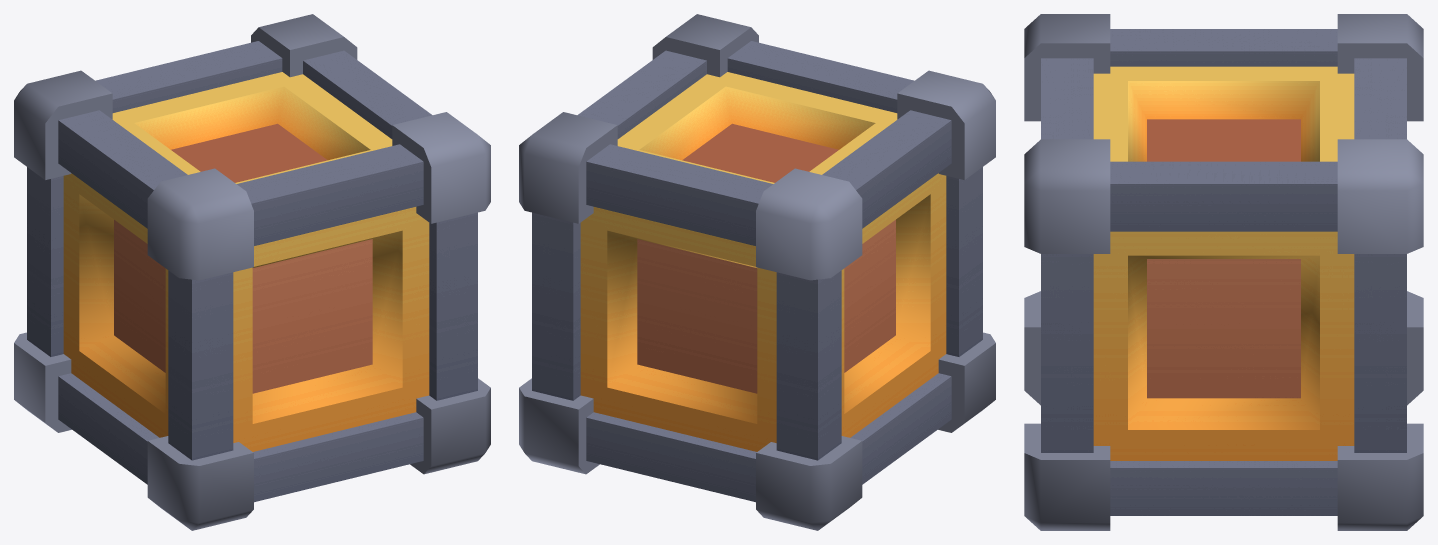
The model's file is crate-item-strong.glb.
3 views of the same model, side by side, from view 1: azimuth 30°, elevation 25°; view 2: azimuth 150°, elevation 25°; view 3: azimuth 270°, elevation 25° (orthographic). The views are drawn at different scales.
Parts seen in each view (by area): view 1: crate-item-strong; view 2: crate-item-strong; view 3: crate-item-strong.
Boxes of the visible parts, box(x1,y1,x2,y2) form: crate-item-strong: box(14, 14, 490, 530); crate-item-strong: box(519, 14, 995, 530); crate-item-strong: box(1024, 14, 1423, 530).
Size of the model in its own units: 0.6 by 0.6 by 0.6.
1 material, 1 textured.
